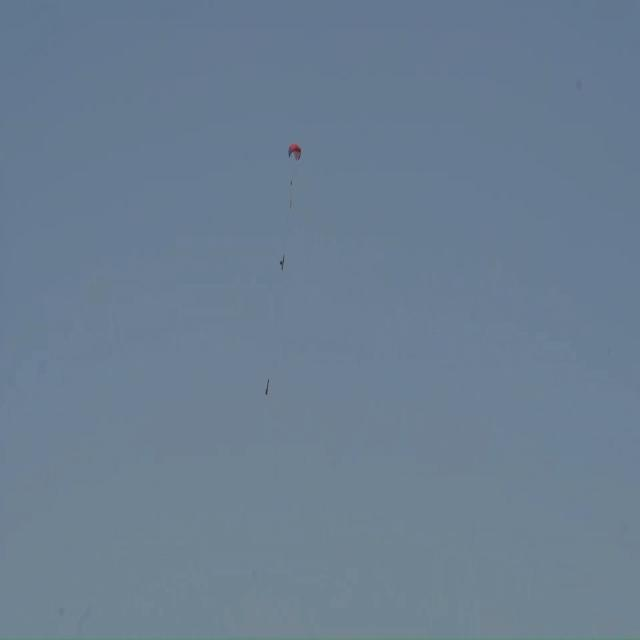Rocket: (265, 377, 269, 396)
